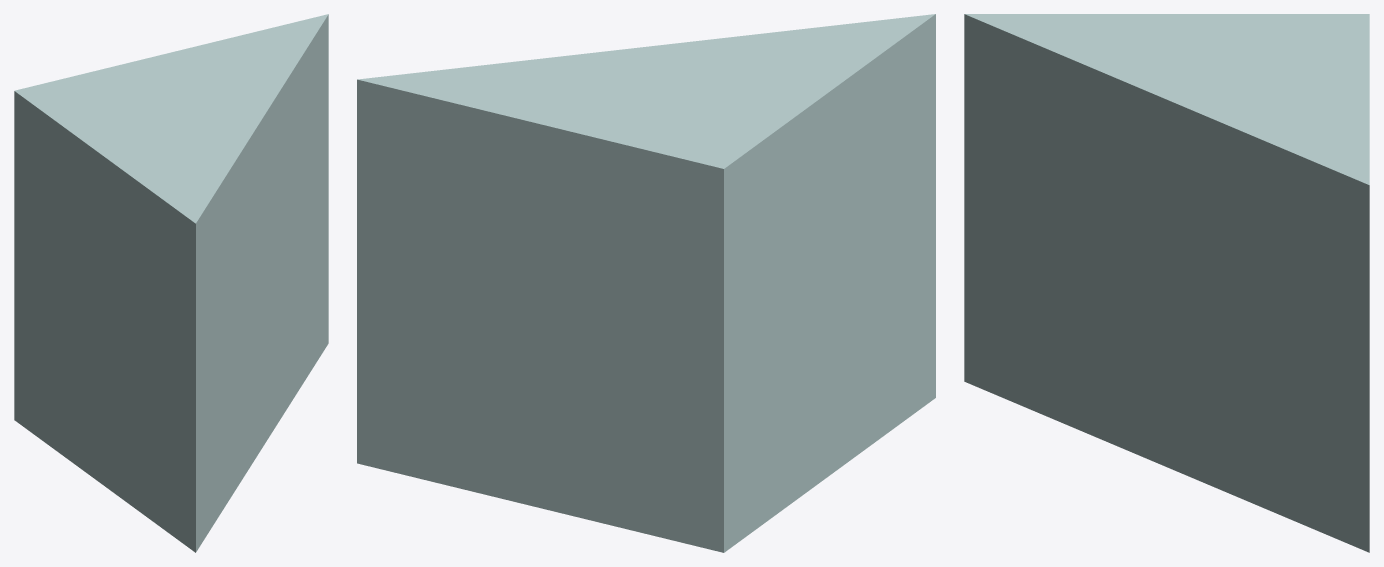
The model's file is ThinConveyor_VerticalSlope.glb.
The picture shows the model from 3 angles, left to right: view 1: azimuth 30°, elevation 25°; view 2: azimuth 150°, elevation 25°; view 3: azimuth 270°, elevation 25°; orthographic projection. The views are drawn at different scales.
Parts seen in each view (by area): view 1: ThinConveyor_VerticalSlope_body; view 2: ThinConveyor_VerticalSlope_body; view 3: ThinConveyor_VerticalSlope_body.
Part boxes in pixels (x1,y1,x2,y2): ThinConveyor_VerticalSlope_body: (14,14,328,552); ThinConveyor_VerticalSlope_body: (357,14,935,552); ThinConveyor_VerticalSlope_body: (964,14,1369,552).
Bounding box in the file's own units: 1 × 1 × 1.
